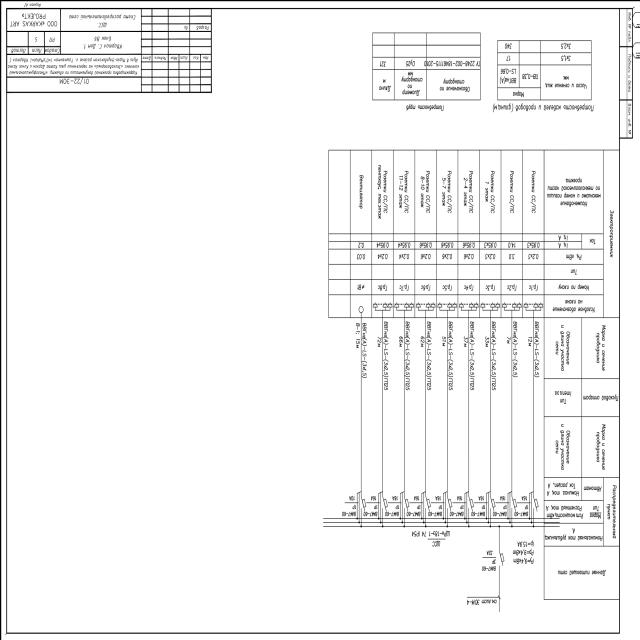-: (478, 548, 496, 572), (362, 492, 377, 516), (383, 492, 398, 516), (427, 493, 441, 517), (492, 492, 506, 516), (341, 493, 355, 517), (406, 493, 420, 517), (449, 493, 463, 517), (514, 492, 528, 516), (470, 492, 484, 516), (410, 528, 450, 536)
QF: (496, 548, 504, 568), (358, 494, 366, 512), (380, 494, 388, 512), (444, 494, 452, 512), (423, 494, 430, 512), (466, 494, 473, 512), (488, 495, 495, 513), (509, 494, 516, 512), (402, 494, 408, 512), (532, 494, 538, 512)
